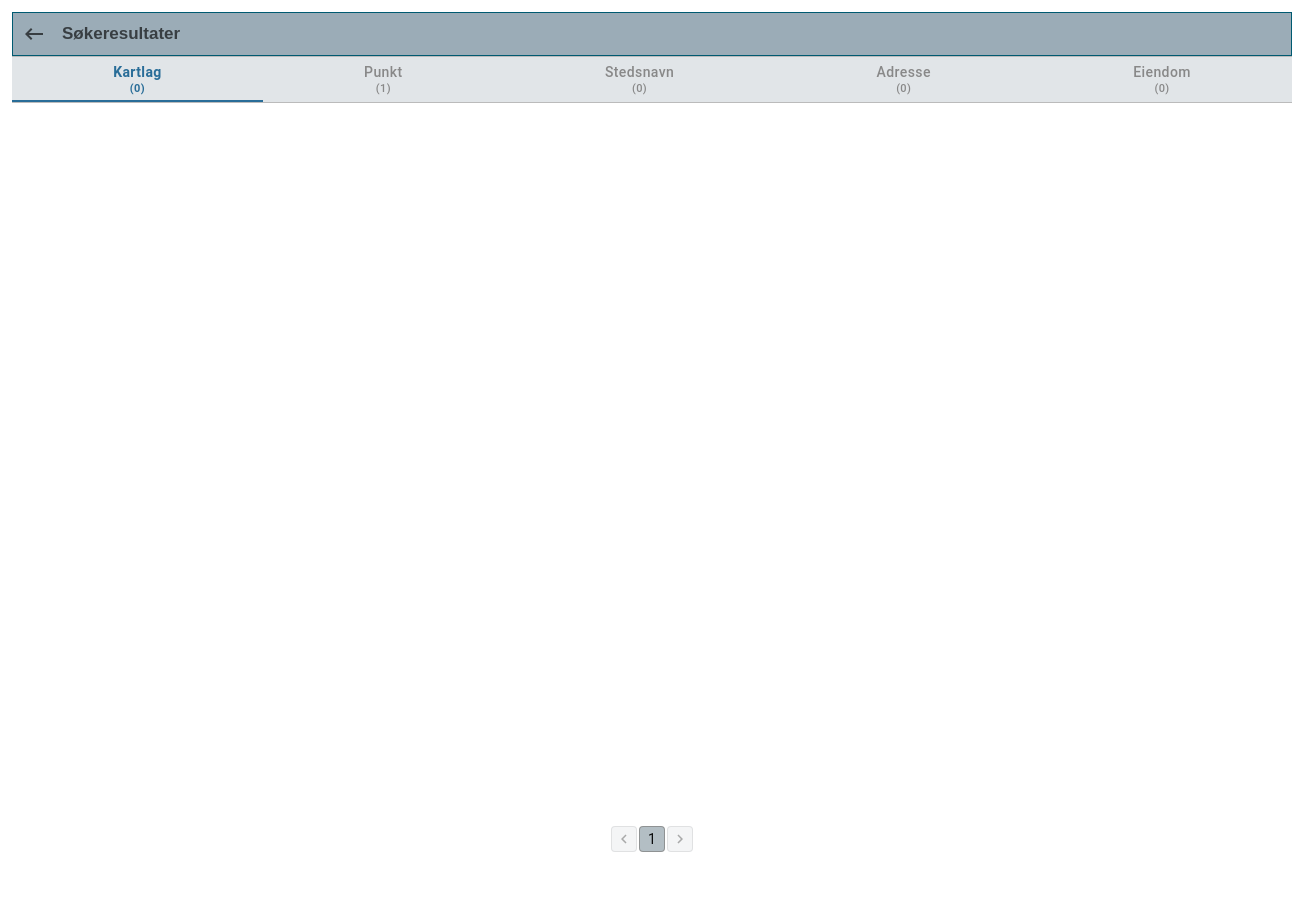
Test: should render coordinates results on search results page
Expected: the text "Søkeresultater" is shown, [62,24,180,44]
Expected: the text "Kartlag" is shown, [113,63,162,81]
Note: Click on point tab
Click the text "Punkt" at (383, 72), box [364,63,403,81]
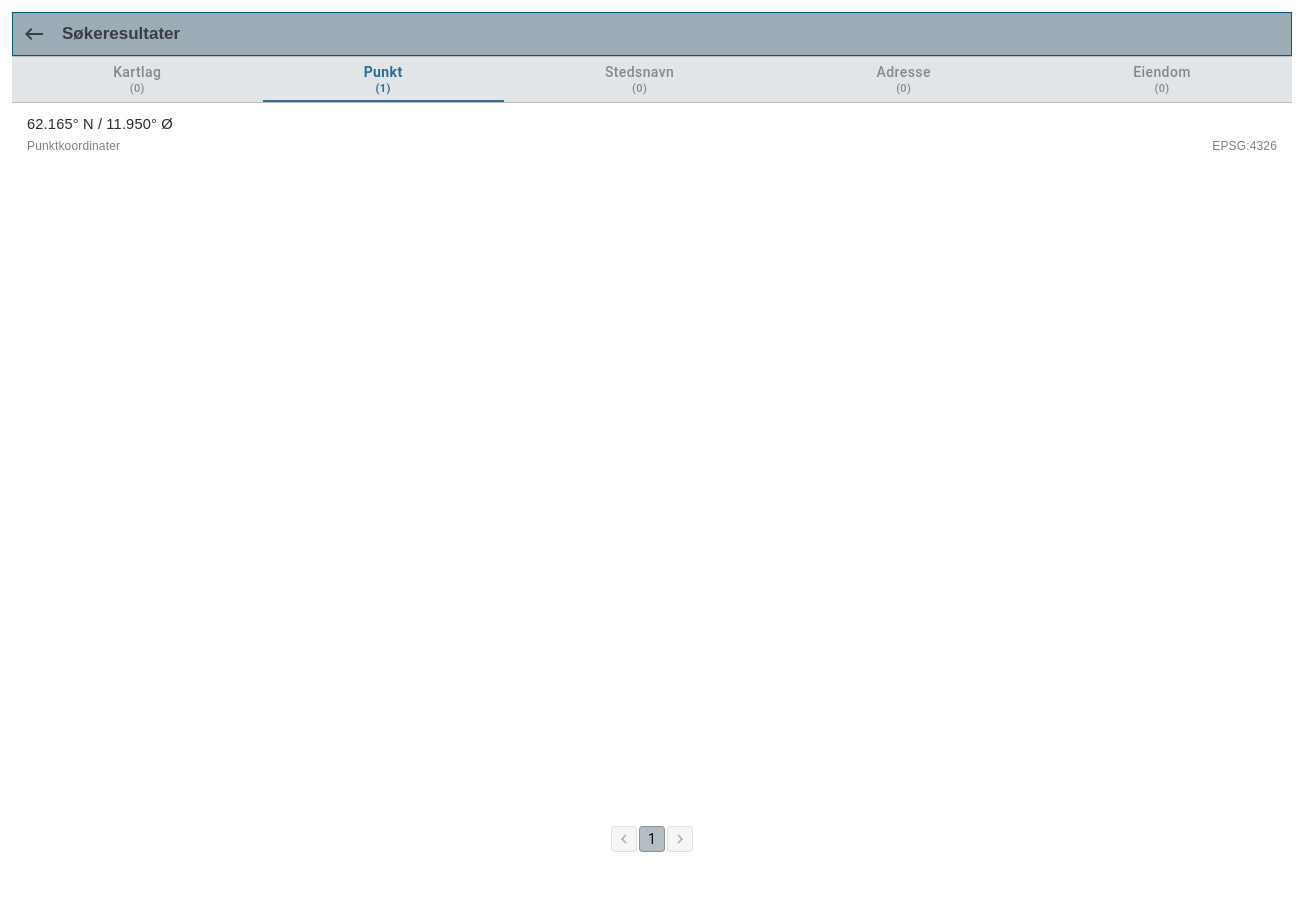
Result: the text "62.165° N / 11.950° Ø" is shown at [27,116,173,132]
Result: the text "Punktkoordinater" is shown at [27,139,120,153]
Result: the text "EPSG:4326" is shown at [1212,139,1277,153]
